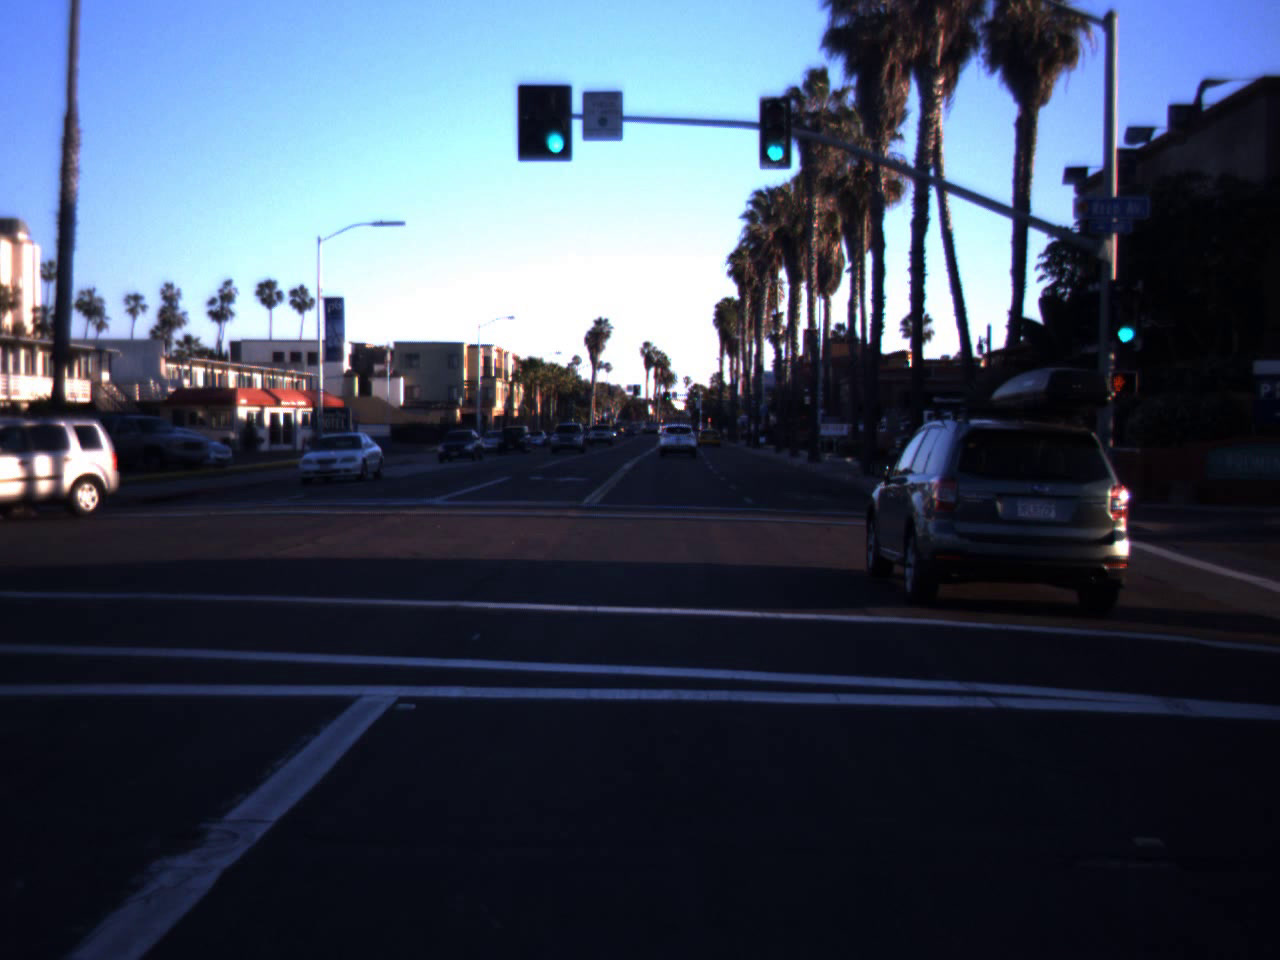go: (535, 75, 577, 160), (754, 101, 796, 166), (1106, 283, 1145, 348)
